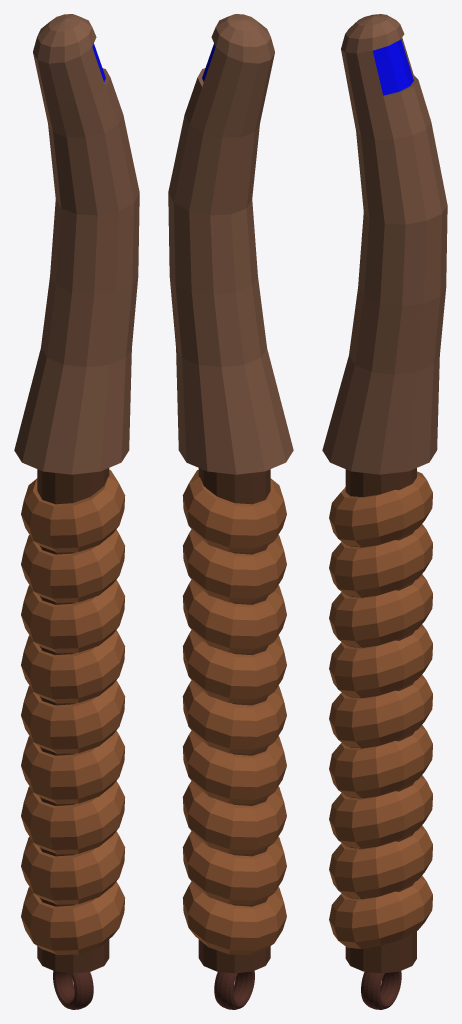
Rendered from Wand 441.glb.
The picture shows the model from 3 angles, left to right: view 1: azimuth 30°, elevation 25°; view 2: azimuth 150°, elevation 25°; view 3: azimuth 330°, elevation 25°; orthographic projection.
Visible parts, largest first — view 1: GeneratedWand; view 2: GeneratedWand; view 3: GeneratedWand.
Boxes of the visible parts, <box> form: GeneratedWand: <box>14,14,139,1009</box>; GeneratedWand: <box>168,14,293,1009</box>; GeneratedWand: <box>322,14,447,1009</box>.
Size of the model in its own units: 0.0644 by 0.5433 by 0.0581.
